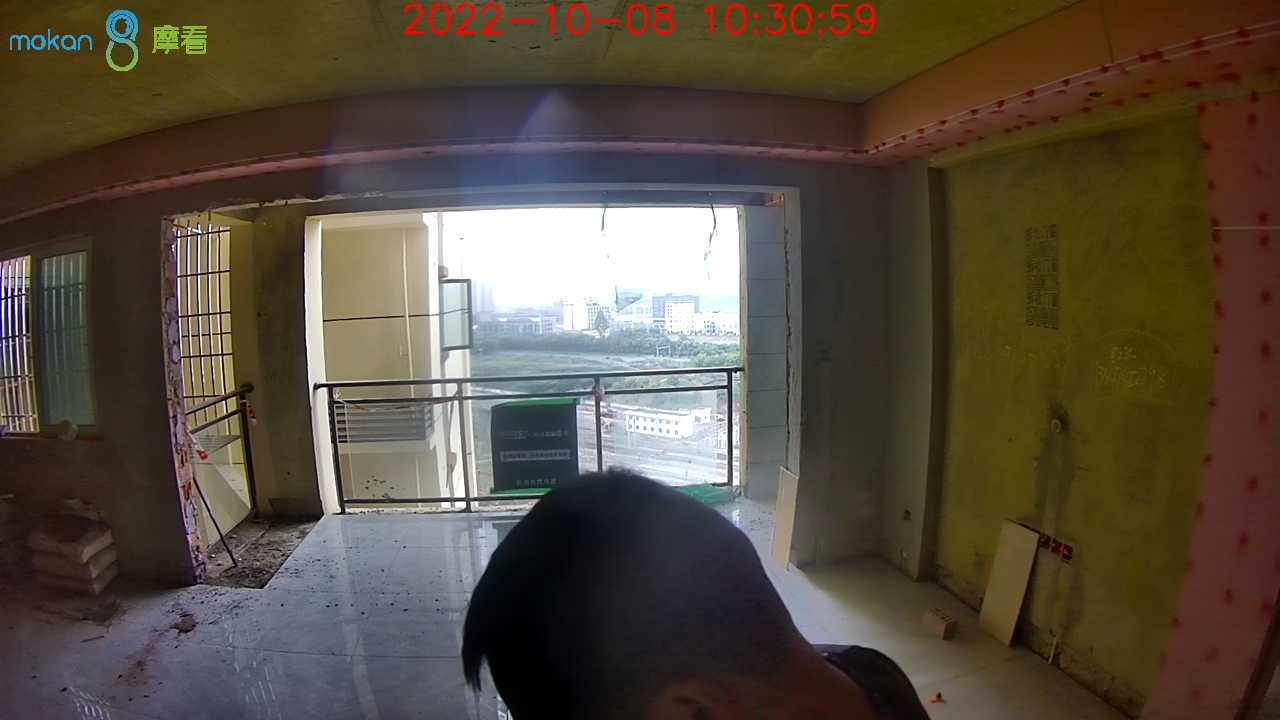people: (452, 468, 934, 720)
window: (314, 205, 745, 368), (320, 389, 751, 504)
